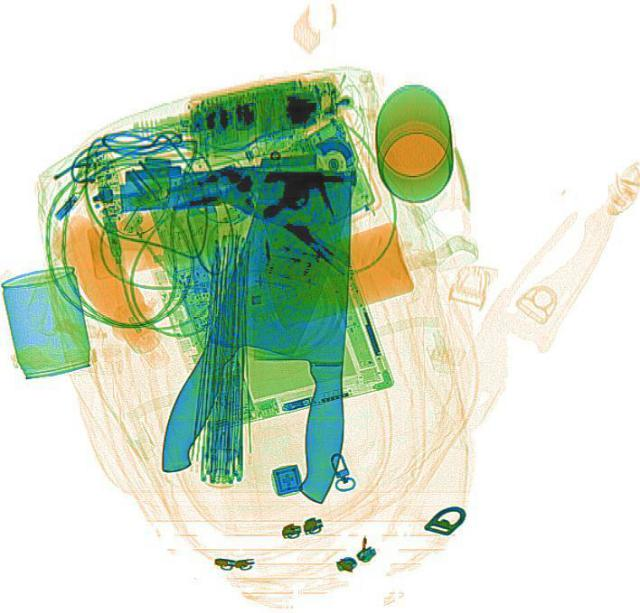Knife: (146, 155, 362, 494), (232, 166, 360, 503)
